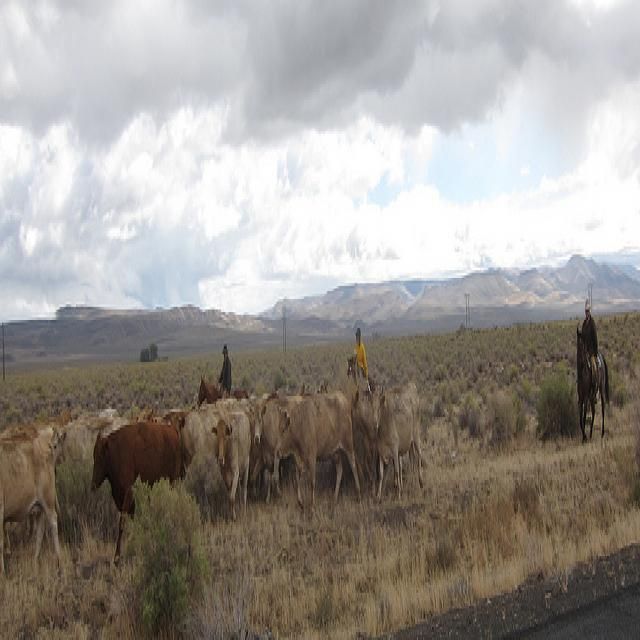cow: (91, 420, 181, 554), (275, 383, 360, 514), (0, 430, 62, 572), (248, 388, 299, 501), (374, 378, 422, 496), (210, 410, 250, 520), (356, 380, 382, 496), (169, 407, 209, 470), (50, 420, 92, 467), (137, 394, 177, 436), (230, 383, 249, 396)
